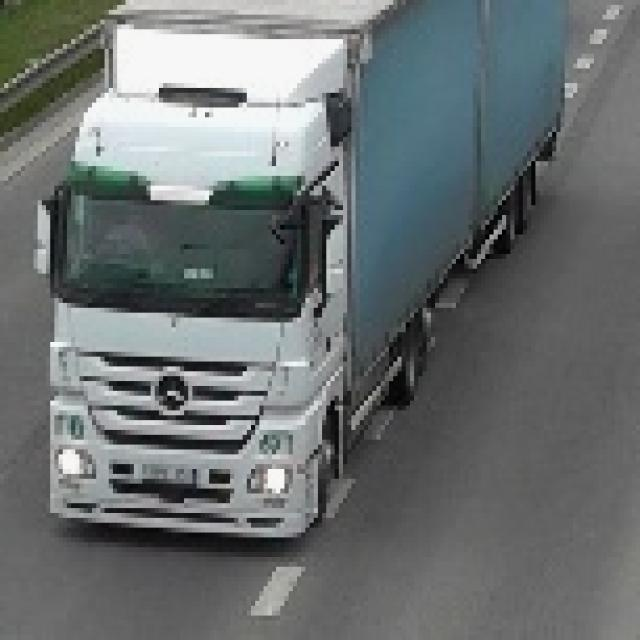TRUCK: (35, 0, 566, 542)
